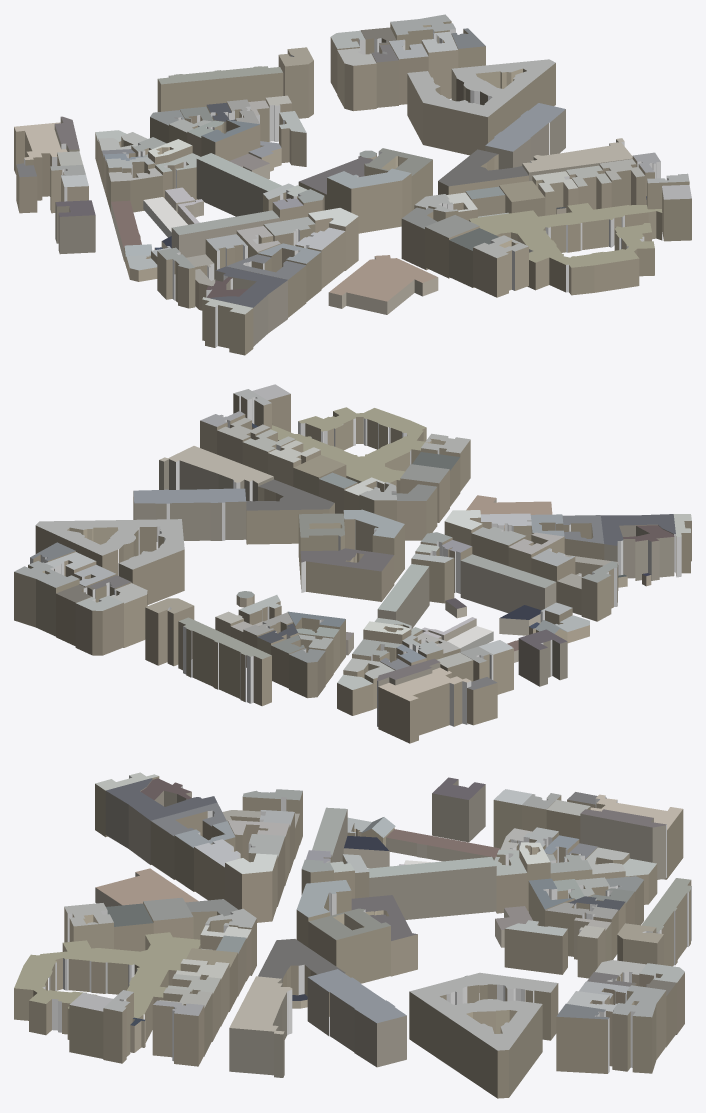
3 views of the same model, one above another, from view 1: azimuth 30°, elevation 25°; view 2: azimuth 150°, elevation 25°; view 3: azimuth 270°, elevation 25° (orthographic). The views are drawn at different scales.
Visible parts, largest first — view 1: tuile; view 2: tuile; view 3: tuile.
Part boxes in pixels (left/top/right/bottom): tuile: left=14, top=14, right=691, bottom=355; tuile: left=14, top=384, right=691, bottom=743; tuile: left=14, top=772, right=691, bottom=1098.
Size of the model in its own units: 286 by 38.47 by 286.
